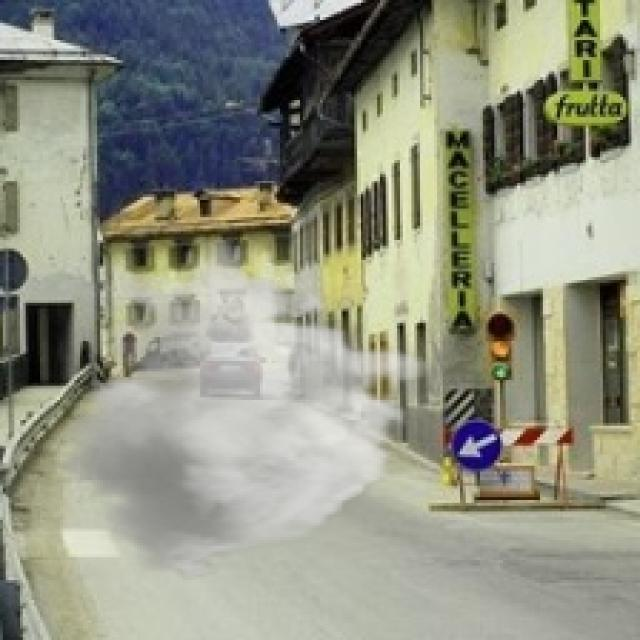Smoke: (46, 237, 437, 583)
